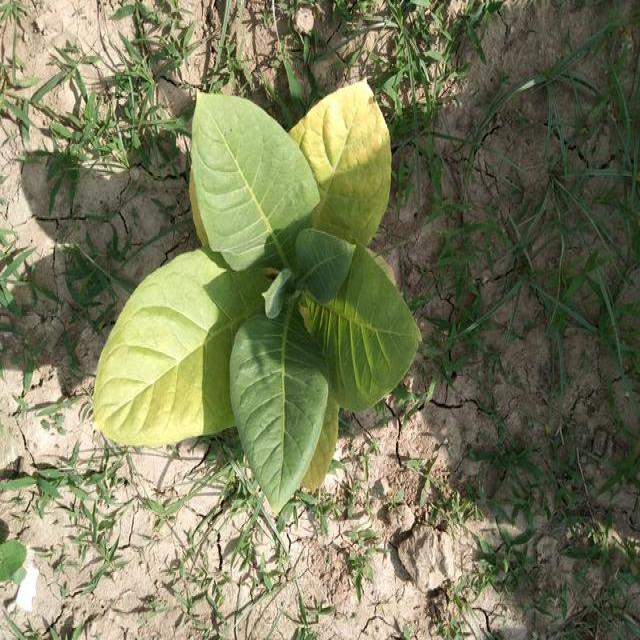crop: (87, 76, 420, 510)
